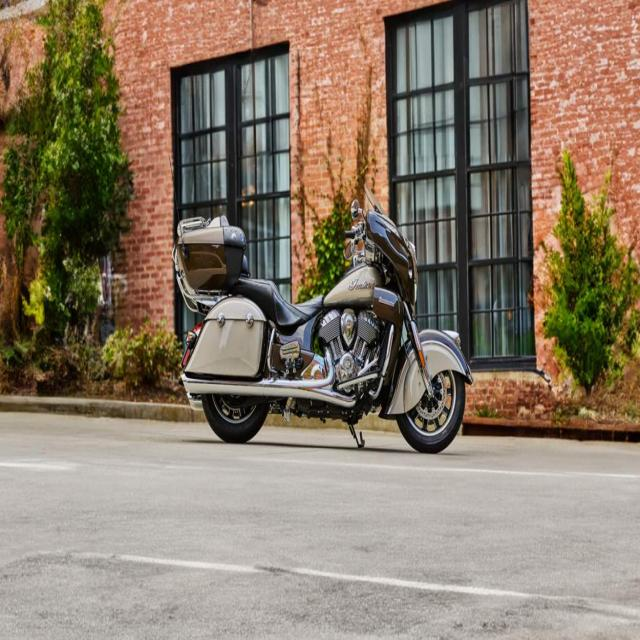motorcycle: (172, 198, 472, 452)
